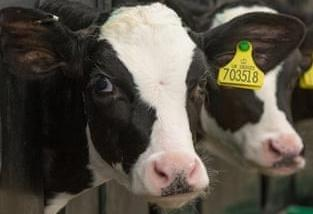muzzles: (134, 149, 212, 209), (257, 129, 306, 177)
